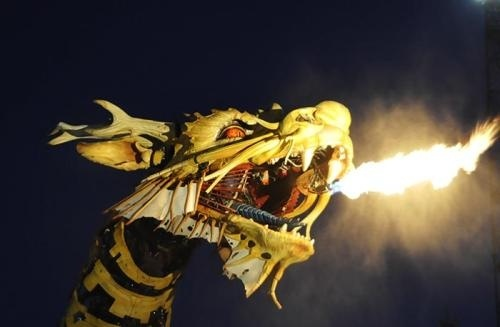fire: (329, 110, 500, 196)
